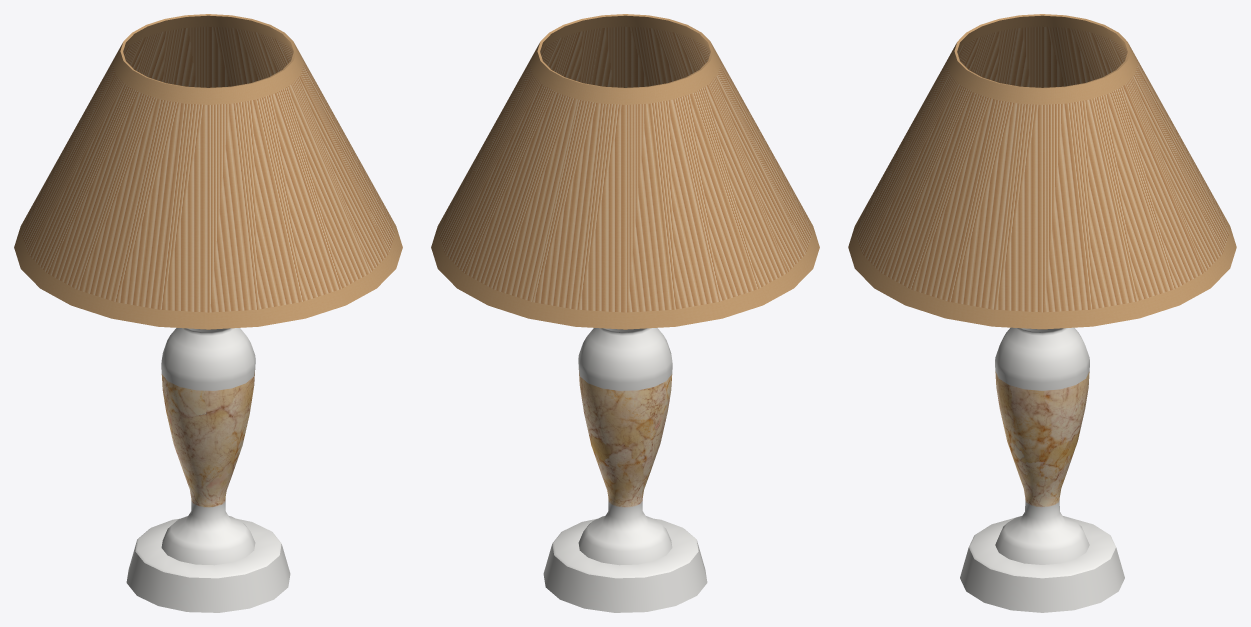
File: LightTableRetro01.FBX
The picture shows the model from 3 angles, left to right: view 1: azimuth 30°, elevation 25°; view 2: azimuth 150°, elevation 25°; view 3: azimuth 270°, elevation 25°; orthographic projection.
Parts seen in each view (by area): view 1: LightTableRetro01; view 2: LightTableRetro01; view 3: LightTableRetro01.
Boxes of the visible parts, <box> form: LightTableRetro01: <box>14,14,402,612</box>; LightTableRetro01: <box>431,14,819,612</box>; LightTableRetro01: <box>848,14,1236,612</box>.
Size of the model in its own units: 337 by 504 by 337.
